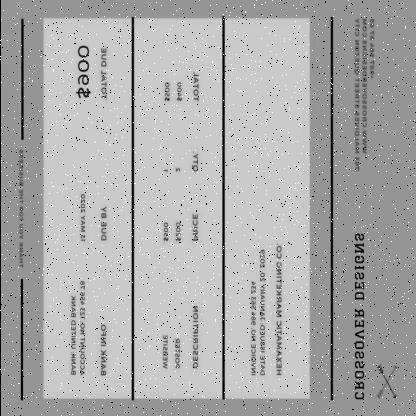Paragraph: (247, 239, 284, 380), (66, 276, 108, 380), (352, 15, 378, 177), (72, 41, 109, 105), (76, 190, 108, 247), (17, 146, 25, 274)
Table: (156, 65, 202, 376)
